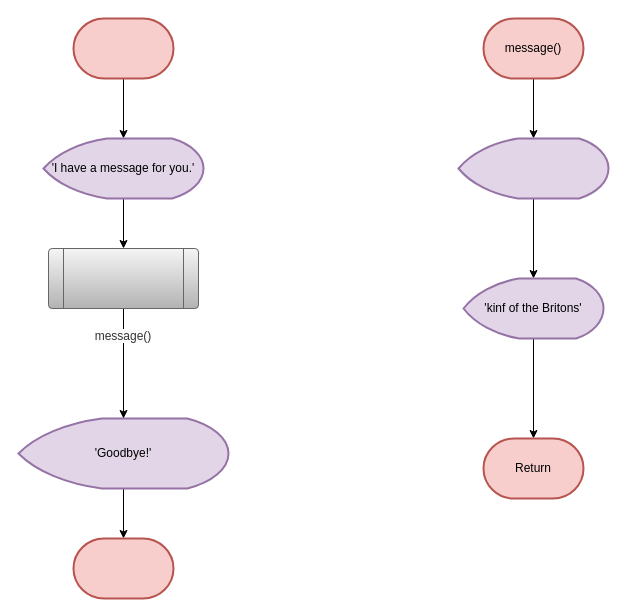
This 626x616 diagram has some shape labels left out. Each missing label, with the centre of its shape:
"'I am Arthur'" belongs at (x=533, y=168).
"Start" belongs at (x=123, y=48).
"Stop" belongs at (x=123, y=568).
